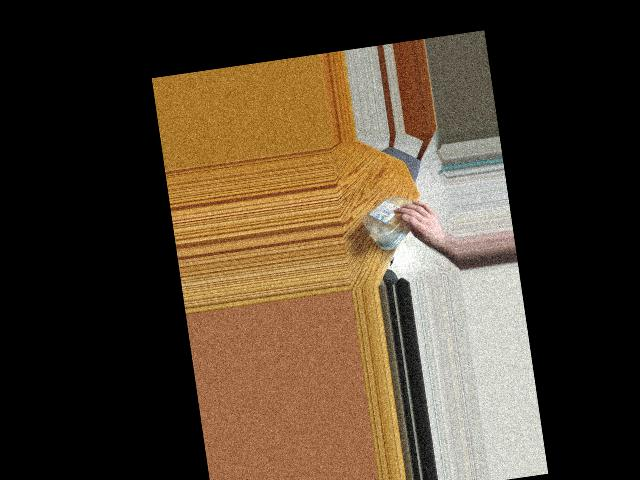cheese: (358, 190, 431, 250)
